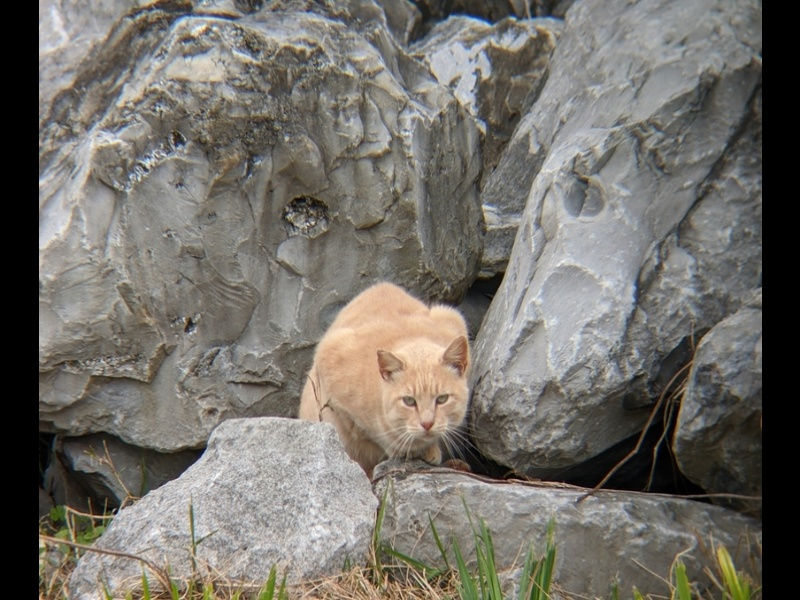cat: (294, 278, 475, 477)
